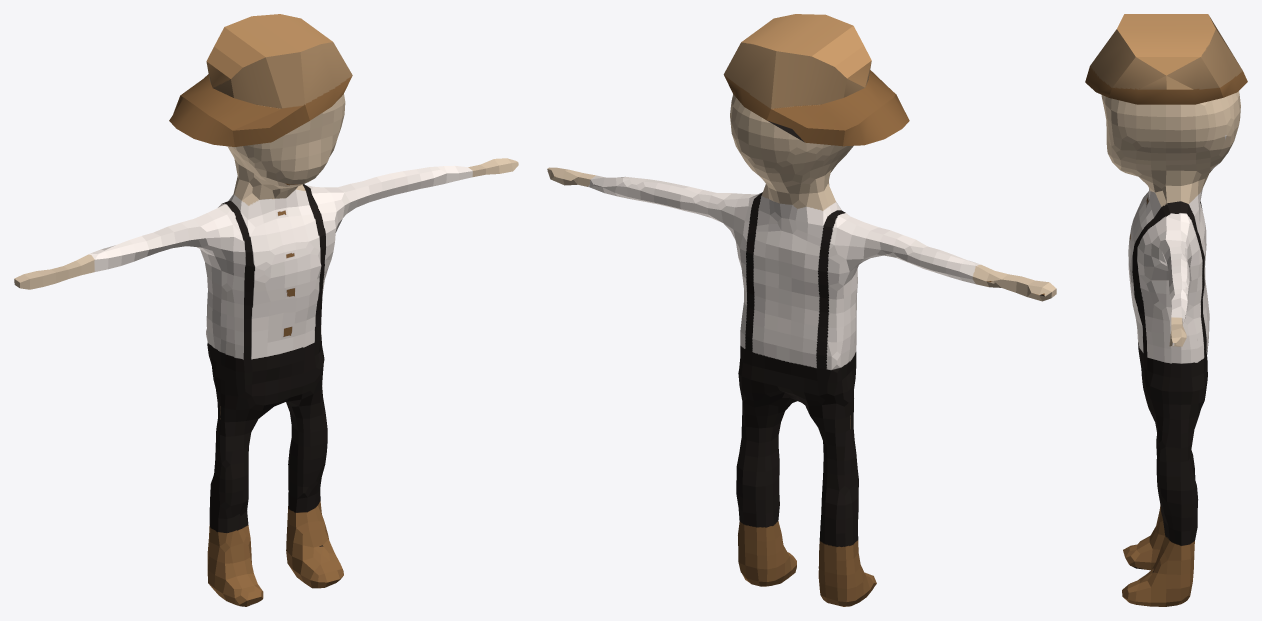
Rendered from boy_model.fbx.
3 views of the same model, side by side, from view 1: azimuth 30°, elevation 25°; view 2: azimuth 150°, elevation 25°; view 3: azimuth 270°, elevation 25° (orthographic).
Parts seen in each view (by area): view 1: Cube.001; view 2: Cube.001; view 3: Cube.001.
Boxes of the visible parts, x1,y1,x2,y2 form: Cube.001: (14, 14, 518, 606); Cube.001: (547, 14, 1056, 606); Cube.001: (1085, 14, 1247, 606).
Size of the model in its own units: 383 by 402 by 106.
1 material, 1 textured.
